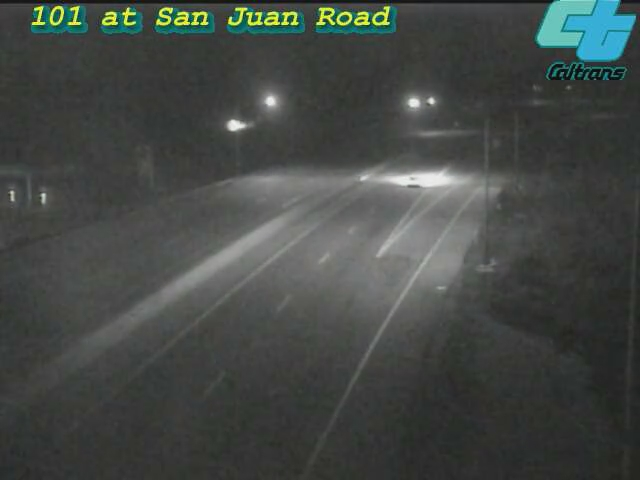vehicle: (373, 141, 453, 221)
